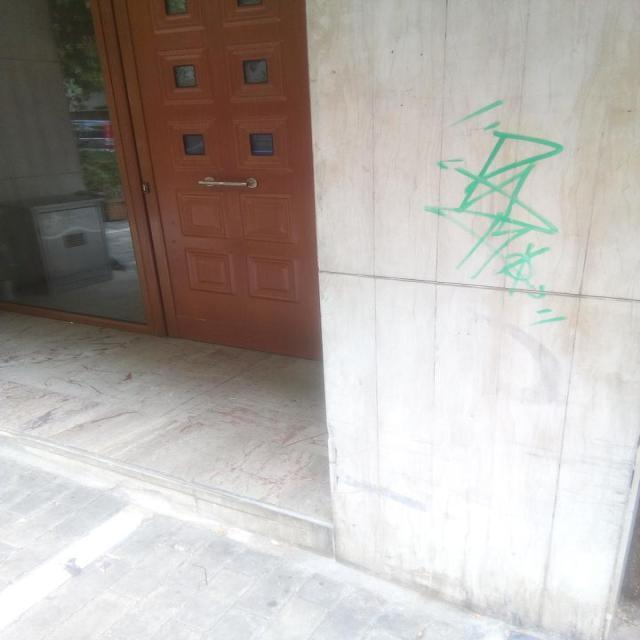nonspitting: (426, 98, 570, 332)
